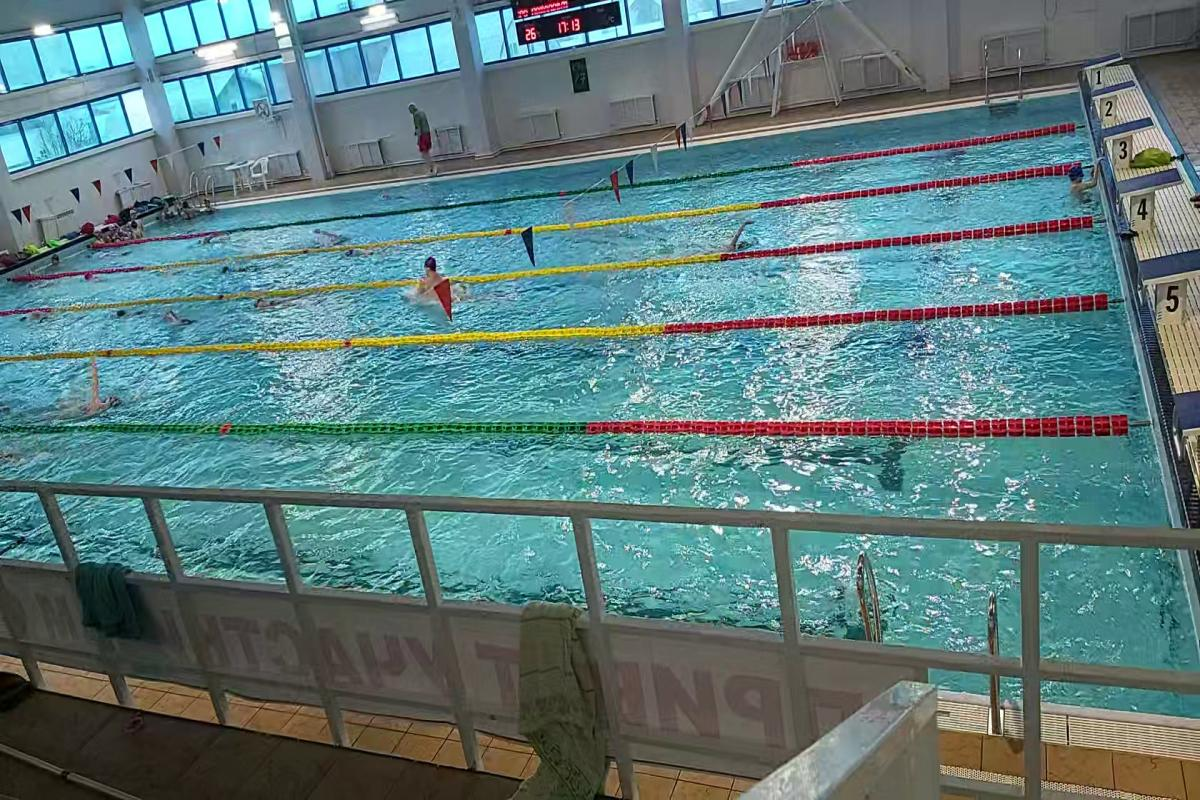swimmer: (64, 360, 130, 416), (1056, 154, 1102, 205), (410, 249, 447, 310), (703, 216, 761, 251), (250, 292, 300, 313)
